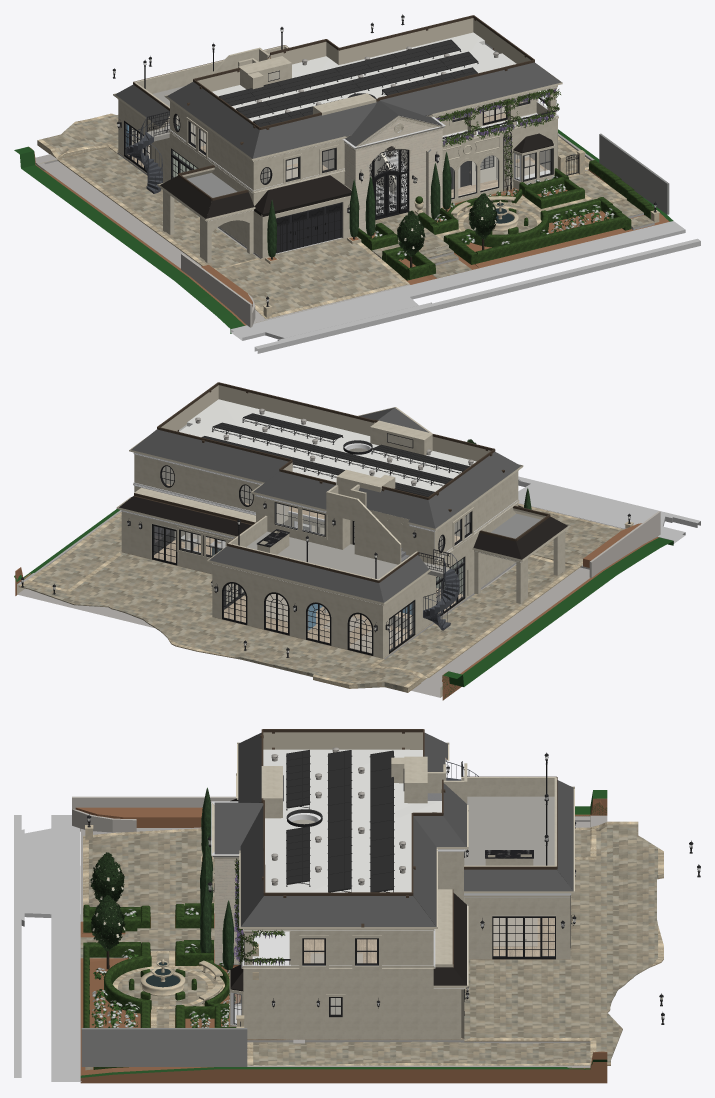
File: exterior-house-b1e896e2e456.glb
The picture shows the model from 3 angles, top to bottom: view 1: azimuth 30°, elevation 25°; view 2: azimuth 150°, elevation 25°; view 3: azimuth 270°, elevation 25°; orthographic projection. The views are drawn at different scales.
Visible parts, largest first — view 1: exterior-house-2097c6bf0b01330b, exterior-house-b5dfe7249a3eb059, exterior-house-e7e6fa835f441169, exterior-house-27d577fbd7f2ff4b, exterior-house-aee2d046b0172b1e, exterior-house-772a07b3069847f0, exterior-house-e33d7b378dc851e2, exterior-house-d56ee2a9d54b1fc2, exterior-house-8ae50a6395ceb8a4, exterior-house-0b9d5d1cd0b2c60f, exterior-house-7cf8e5cfa8b264af, exterior-house-25c3ff3929e46046 (+45 smaller); view 2: exterior-house-37d1b262fca80116, exterior-house-d56ee2a9d54b1fc2, exterior-house-27d577fbd7f2ff4b, exterior-house-8ae50a6395ceb8a4, exterior-house-969b861f9850351e, exterior-house-aee2d046b0172b1e, exterior-house-c91f911e25c8cae7, exterior-house-5febae1537653d02, exterior-house-3763e2fb8578d282, exterior-house-b5dfe7249a3eb059, exterior-house-2c1fd33d433632d0, exterior-house-0cae3eb2f2d52fad (+38 smaller); view 3: exterior-house-37d1b262fca80116, exterior-house-aee2d046b0172b1e, exterior-house-b5dfe7249a3eb059, exterior-house-d56ee2a9d54b1fc2, exterior-house-2c1fd33d433632d0, exterior-house-2097c6bf0b01330b, exterior-house-07f5bde4319b7ab4, exterior-house-e7e6fa835f441169, exterior-house-a75a0c9c223328ee, exterior-house-ded88bd99590d377, exterior-house-af97eba351c411ae, exterior-house-e706aa16b4547c37 (+54 smaller).
Part boxes in pixels (<box>): exterior-house-2097c6bf0b01330b: <box>216,236,409,318</box>; exterior-house-b5dfe7249a3eb059: <box>230,221,685,340</box>; exterior-house-e7e6fa835f441169: <box>357,175,625,280</box>; exterior-house-27d577fbd7f2ff4b: <box>57,147,260,269</box>; exterior-house-aee2d046b0172b1e: <box>14,129,673,333</box>; exterior-house-772a07b3069847f0: <box>254,238,700,353</box>; exterior-house-e33d7b378dc851e2: <box>380,62,560,115</box>; exterior-house-d56ee2a9d54b1fc2: <box>212,32,516,121</box>; exterior-house-8ae50a6395ceb8a4: <box>35,133,594,323</box>; exterior-house-0b9d5d1cd0b2c60f: <box>236,51,478,118</box>; exterior-house-7cf8e5cfa8b264af: <box>218,39,461,105</box>; exterior-house-25c3ff3929e46046: <box>253,101,377,158</box>; exterior-house-37d1b262fca80116: <box>18,552,427,692</box>; exterior-house-d56ee2a9d54b1fc2: <box>181,399,476,491</box>; exterior-house-27d577fbd7f2ff4b: <box>377,555,580,677</box>; exterior-house-8ae50a6395ceb8a4: <box>17,503,624,697</box>; exterior-house-969b861f9850351e: <box>212,566,380,657</box>; exterior-house-aee2d046b0172b1e: <box>14,509,673,700</box>; exterior-house-c91f911e25c8cae7: <box>131,429,288,482</box>; exterior-house-5febae1537653d02: <box>209,546,383,602</box>; exterior-house-3763e2fb8578d282: <box>134,454,259,512</box>; exterior-house-b5dfe7249a3eb059: <box>518,484,685,543</box>; exterior-house-2c1fd33d433632d0: <box>28,512,121,589</box>; exterior-house-0cae3eb2f2d52fad: <box>428,451,520,528</box>; exterior-house-37d1b262fca80116: <box>464,821,663,1065</box>; exterior-house-aee2d046b0172b1e: <box>80,790,607,1083</box>; exterior-house-b5dfe7249a3eb059: <box>24,815,81,1081</box>; exterior-house-d56ee2a9d54b1fc2: <box>263,749,441,892</box>; exterior-house-2c1fd33d433632d0: <box>247,1041,590,1065</box>; exterior-house-2097c6bf0b01330b: <box>83,828,214,921</box>; exterior-house-07f5bde4319b7ab4: <box>81,1028,247,1066</box>; exterior-house-e7e6fa835f441169: <box>83,903,229,1027</box>; exterior-house-a75a0c9c223328ee: <box>241,896,436,926</box>; exterior-house-ded88bd99590d377: <box>464,796,554,865</box>; exterior-house-af97eba351c411ae: <box>372,979,461,1038</box>; exterior-house-e706aa16b4547c37: <box>464,897,567,959</box>.
Size of the model in its own units: 31.9 by 8.68 by 35.2.
Materials: 110 (31 with a texture image).
